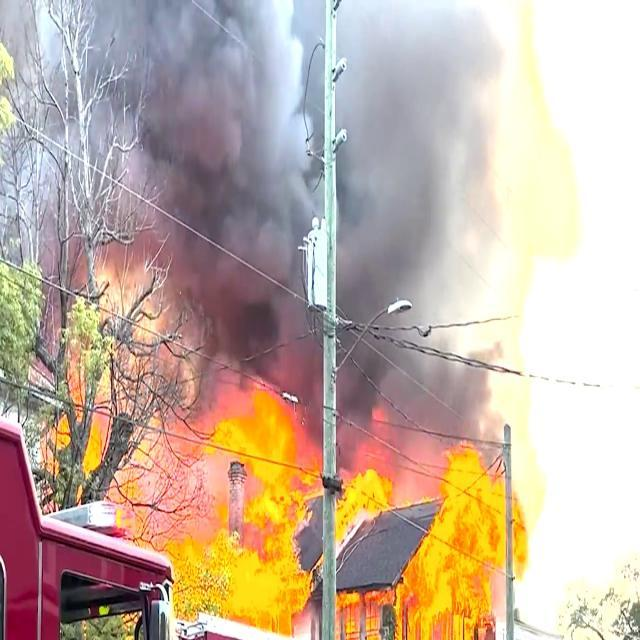Fire: (165, 403, 307, 629), (411, 432, 522, 640), (335, 460, 395, 522)
Smoke: (27, 3, 526, 379)
